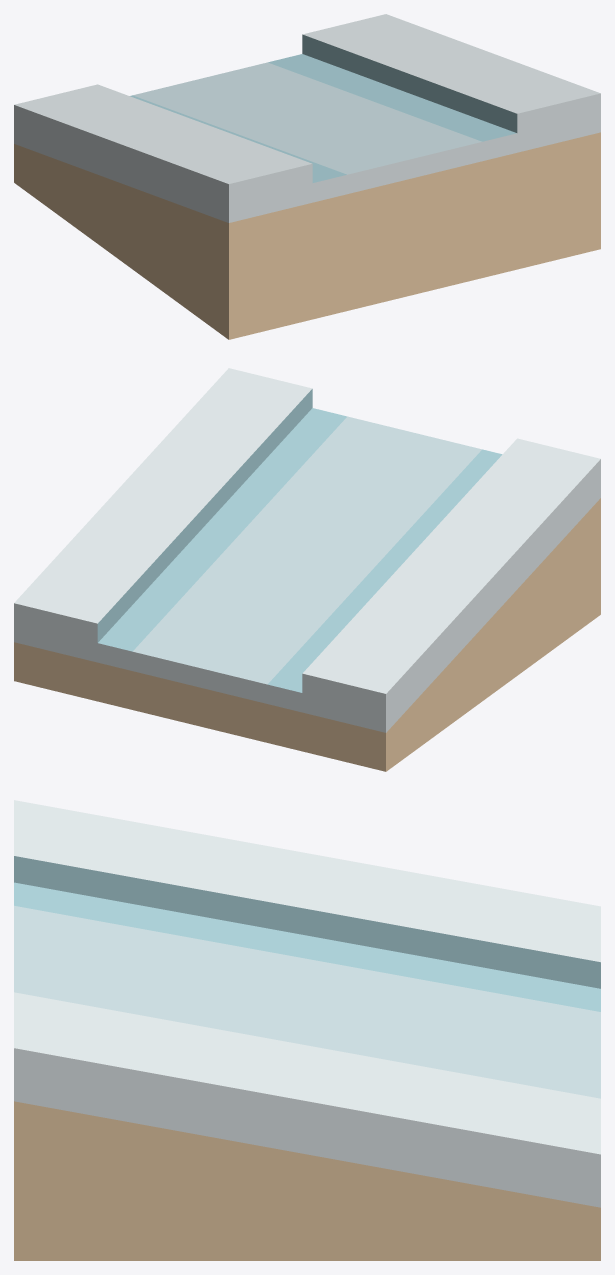
File: snow_tile_straightHill.glb
3 renders of one model, top to bottom at view 1: azimuth 30°, elevation 25°; view 2: azimuth 150°, elevation 25°; view 3: azimuth 270°, elevation 25°, orthographic. The views are drawn at different scales.
Parts seen in each view (by area): view 1: snow_tile_straightHill; view 2: snow_tile_straightHill; view 3: snow_tile_straightHill.
Part boxes in pixels (x1=…): snow_tile_straightHill: x1=14, y1=14, x2=600, y2=339; snow_tile_straightHill: x1=14, y1=368, x2=600, y2=771; snow_tile_straightHill: x1=14, y1=800, x2=600, y2=1260.
Size of the model in its own units: 1 by 0.4 by 1.
